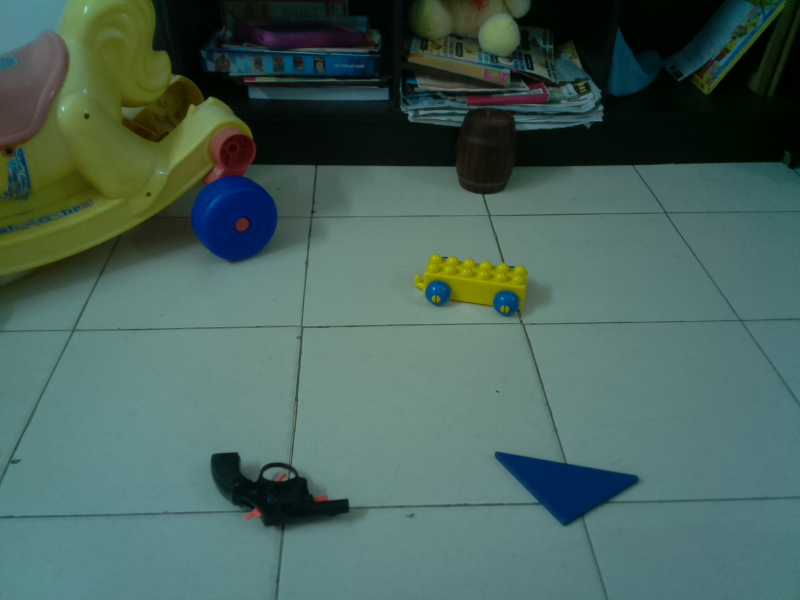Gun: (208, 449, 356, 533)
Triangle: (491, 448, 642, 530)
toy_Car: (412, 252, 531, 317)
